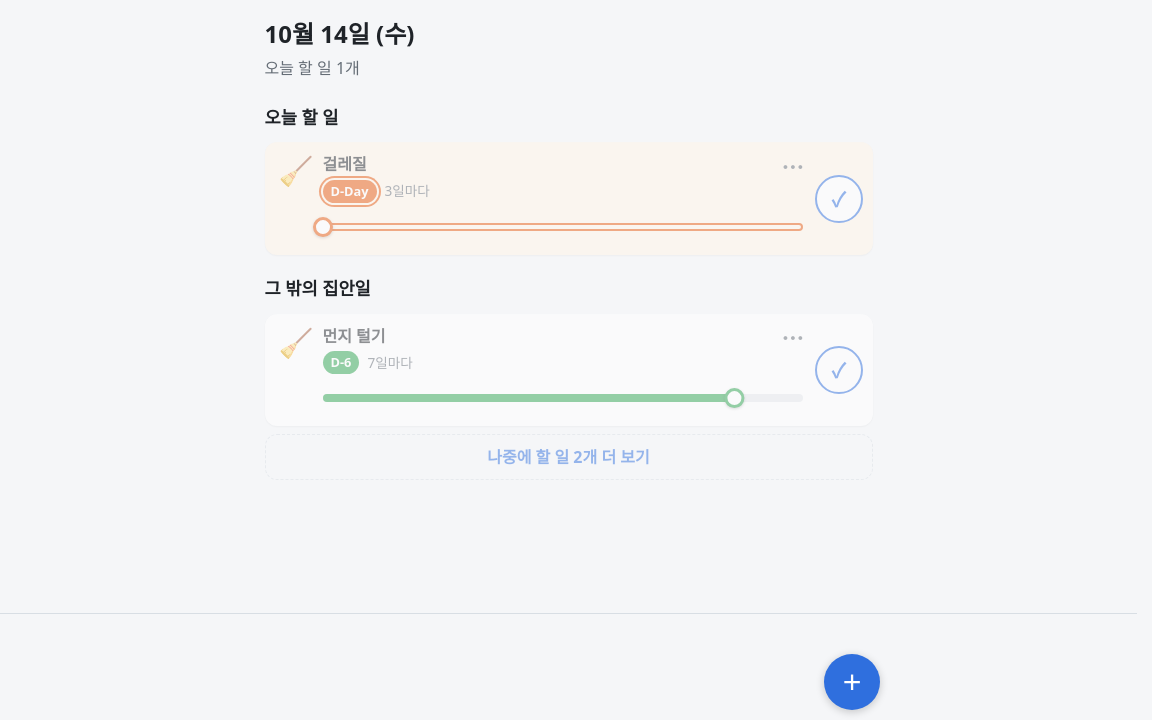
Test: 나중에 할 일 접기 (남은 일수 7일 이상) › 완료 체크로 7일 이상이 되는 카드도 접힌 영역으로 들어가고 알림에 표시된다
# 걸레질은 주기 3일이라 완료해도 D-3: 접히지 않고 알림에도 붙지 않는다.
Click the button named "걸레질 완료 체크" at (838, 198), box [814,174,862,222]
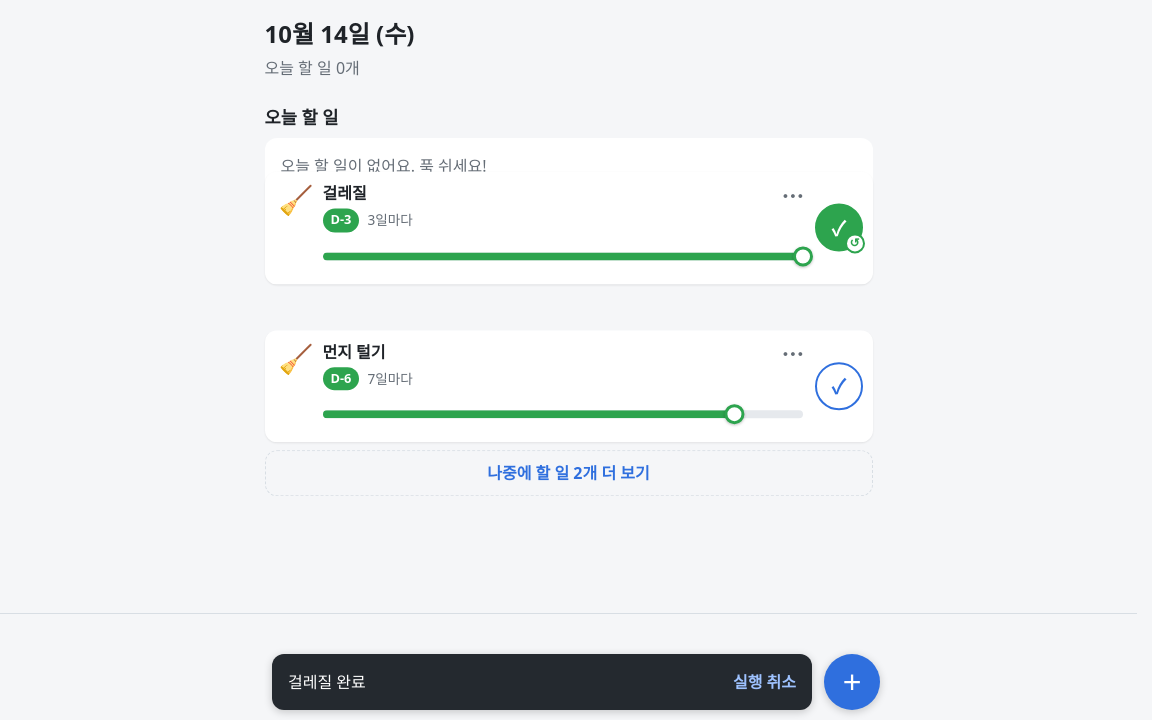
expect the text "걸레질 완료" is shown: met, box [288,671,366,693]
